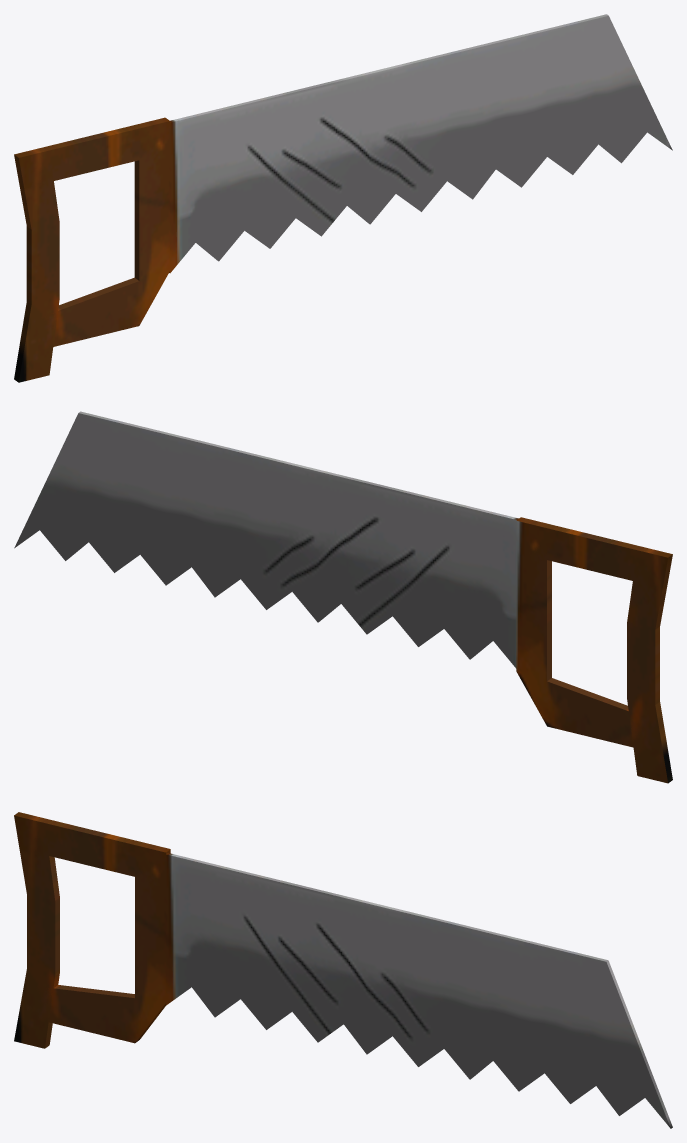
The model's file is InvMasor.glb.
3 views of the same model, one above another, from view 1: azimuth 30°, elevation 25°; view 2: azimuth 150°, elevation 25°; view 3: azimuth 330°, elevation 25° (orthographic).
Parts seen in each view (by area): view 1: InvMasor; view 2: InvMasor; view 3: InvMasor.
Part boxes in pixels (x1,y1,x2,y2): InvMasor: (14,14,672,382); InvMasor: (14,411,672,783); InvMasor: (14,812,672,1128).
Size of the model in its own units: 33.1 by 10.87 by 0.4181.
Materials: 1 (1 with a texture image).
